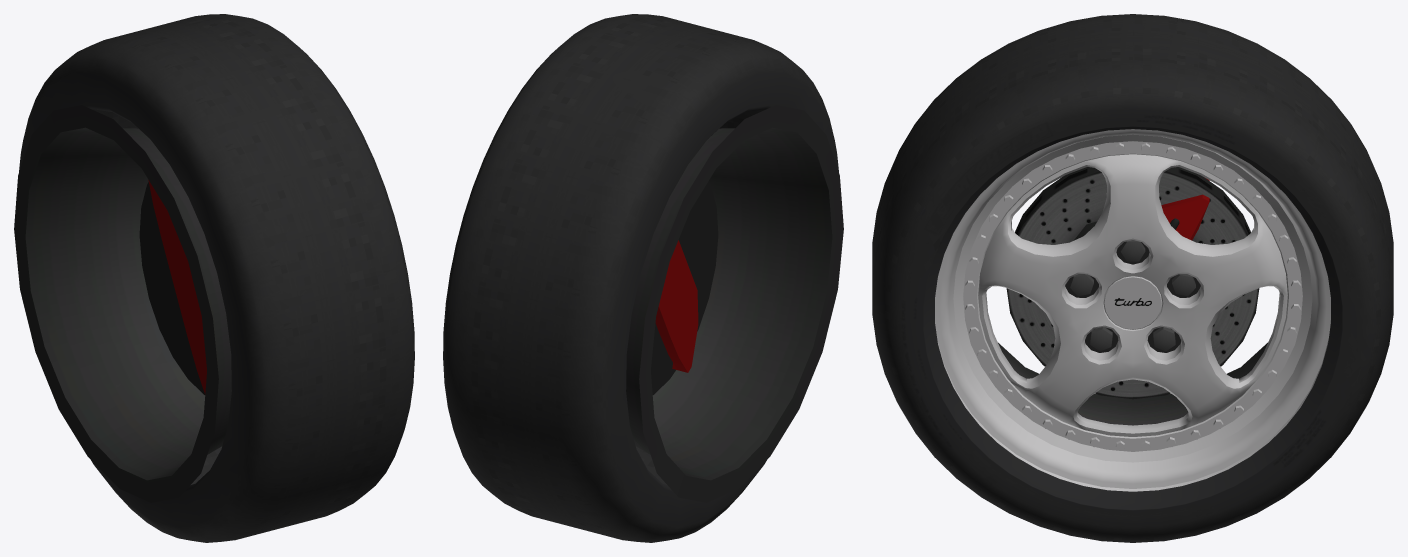
The model's file is Wheel.fbx.
The picture shows the model from 3 angles, left to right: view 1: azimuth 30°, elevation 25°; view 2: azimuth 150°, elevation 25°; view 3: azimuth 270°, elevation 25°; orthographic projection.
Parts seen in each view (by area): view 1: P:polySurface7, t:SM_Hub_L_0000_001_SM_Hub_L_0000_001_MAT_Hub, t:SM_Disk_L_0000_001_SM_Disk_L_0000_001_MAT_Disk, t:SM_Brake_FL_0000_001_SM_Brake_FL_0000_001_MAT_Tire_Br_58fa; view 2: P:polySurface7, t:SM_Hub_L_0000_001_SM_Hub_L_0000_001_MAT_Hub, t:SM_Disk_L_0000_001_SM_Disk_L_0000_001_MAT_Disk, t:SM_Brake_FL_0000_001_SM_Brake_FL_0000_001_MAT_Tire_Br_58fa; view 3: P:polySurface7, t:SM_Hub_L_0000_001_SM_Hub_L_0000_001_MAT_Hub, t:SM_Disk_L_0000_001_SM_Disk_L_0000_001_MAT_Disk, t:SM_Brake_FL_0000_001_SM_Brake_FL_0000_001_MAT_Tire_Br_58fa.
Boxes of the visible parts, box(x1,y1,x2,y2) form: P:polySurface7: box(19, 14, 414, 542); t:SM_Hub_L_0000_001_SM_Hub_L_0000_001_MAT_Hub: box(14, 105, 231, 502); t:SM_Disk_L_0000_001_SM_Disk_L_0000_001_MAT_Disk: box(139, 182, 204, 394); t:SM_Brake_FL_0000_001_SM_Brake_FL_0000_001_MAT_Tire_Br_58fa: box(148, 180, 206, 394); P:polySurface7: box(443, 14, 838, 542); t:SM_Hub_L_0000_001_SM_Hub_L_0000_001_MAT_Hub: box(626, 105, 843, 502); t:SM_Disk_L_0000_001_SM_Disk_L_0000_001_MAT_Disk: box(651, 181, 718, 394); t:SM_Brake_FL_0000_001_SM_Brake_FL_0000_001_MAT_Tire_Br_58fa: box(655, 240, 698, 372); P:polySurface7: box(872, 14, 1393, 542); t:SM_Hub_L_0000_001_SM_Hub_L_0000_001_MAT_Hub: box(935, 129, 1330, 491); t:SM_Disk_L_0000_001_SM_Disk_L_0000_001_MAT_Disk: box(1006, 167, 1259, 399); t:SM_Brake_FL_0000_001_SM_Brake_FL_0000_001_MAT_Tire_Br_58fa: box(1161, 178, 1209, 240).
Bounding box in the file's own units: 26.87 × 63.9 × 63.56.
Materials: 4 (4 with a texture image).
